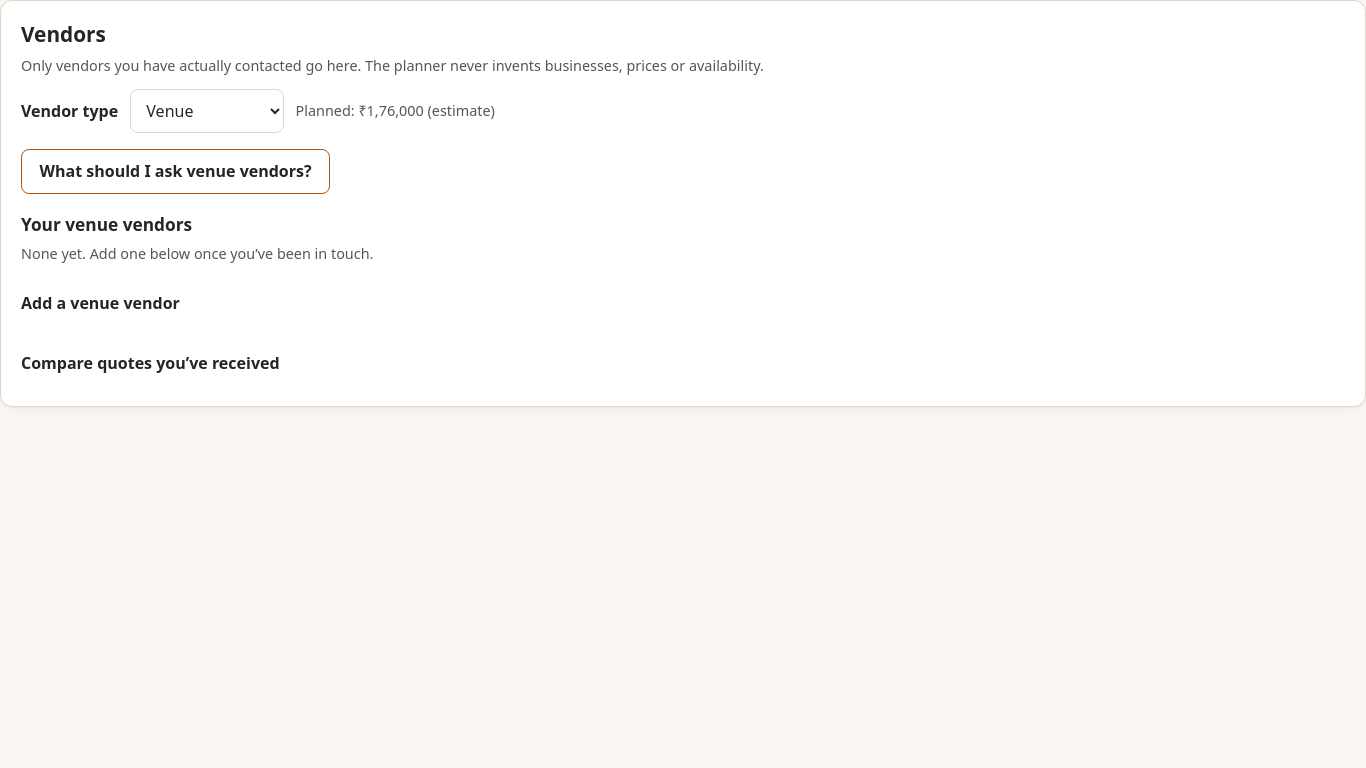
VendorPanel › comparing quotes › waits for at least one quote with enough text to read
The image size is (1366, 768).
Step 1. Select "Catering" in the dropdown labelled "Vendor type" → (207, 111), box [130,89,284,133]
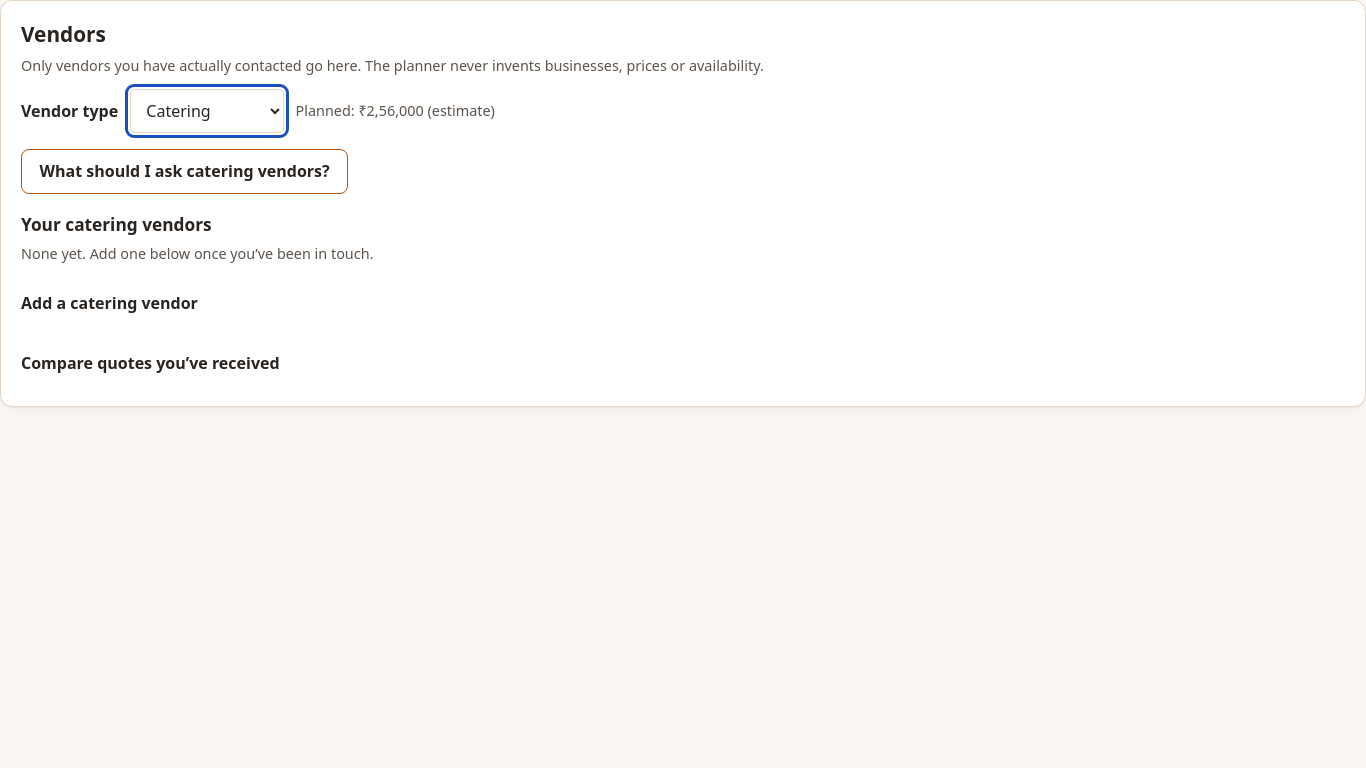
Step 2. Click the heading "Compare quotes you’ve received" → (150, 363), box [21,352,280,374]
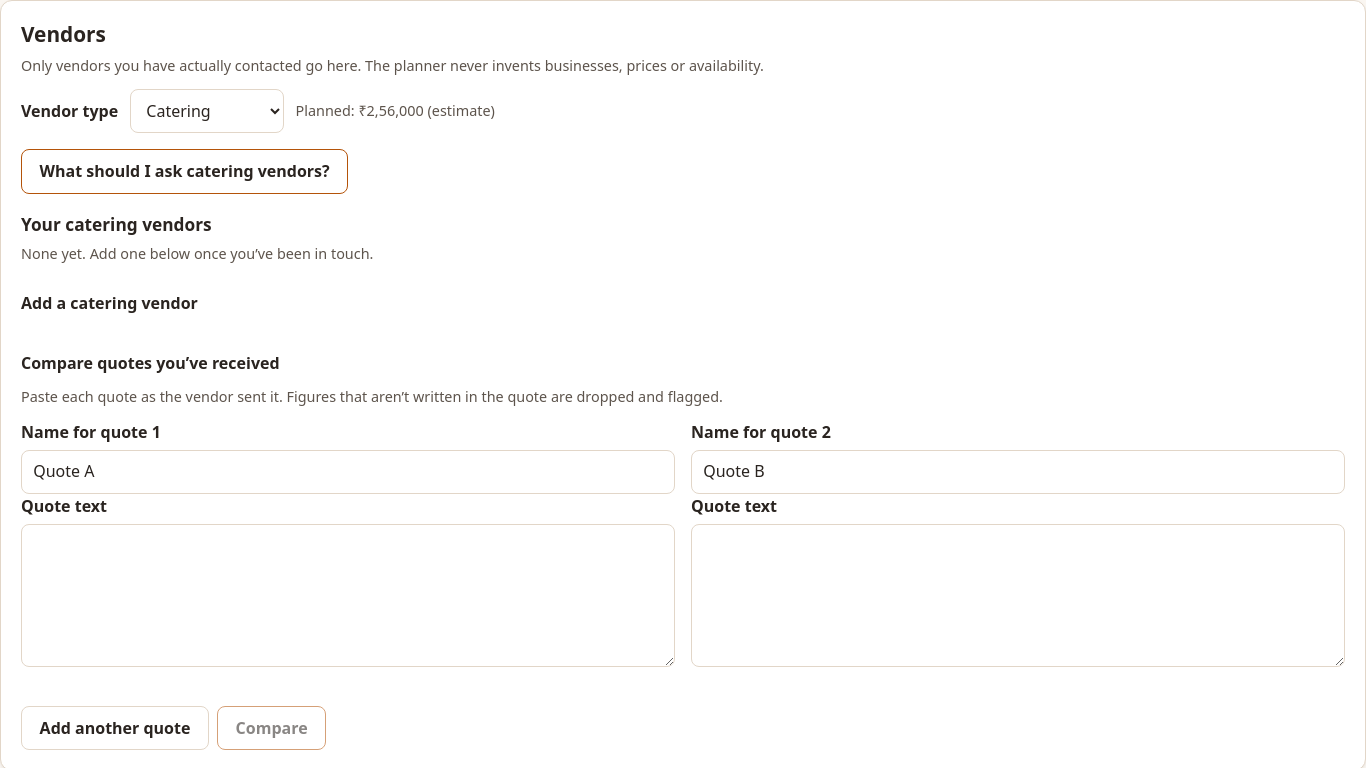
expect the button "Compare" is disabled: met, box [217,706,326,750]
Step 3. Type "too short" into the 1st text box labelled "Quote text" → (348, 595), box [21,524,675,667]
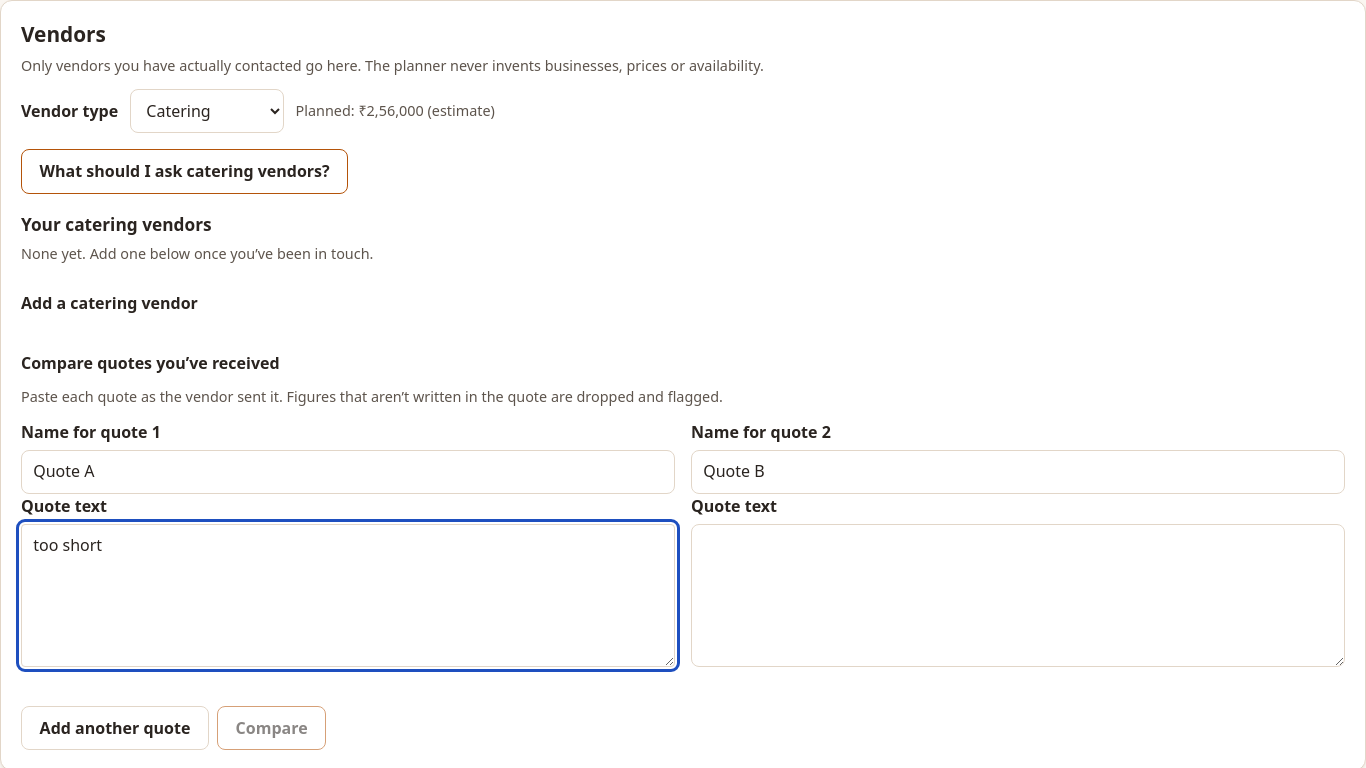
expect the button "Compare" is disabled: met, box [217,706,326,750]
Step 4. Type " but now it is long enough" into the 1st text box labelled "Quote text" → (348, 595), box [21,524,675,667]
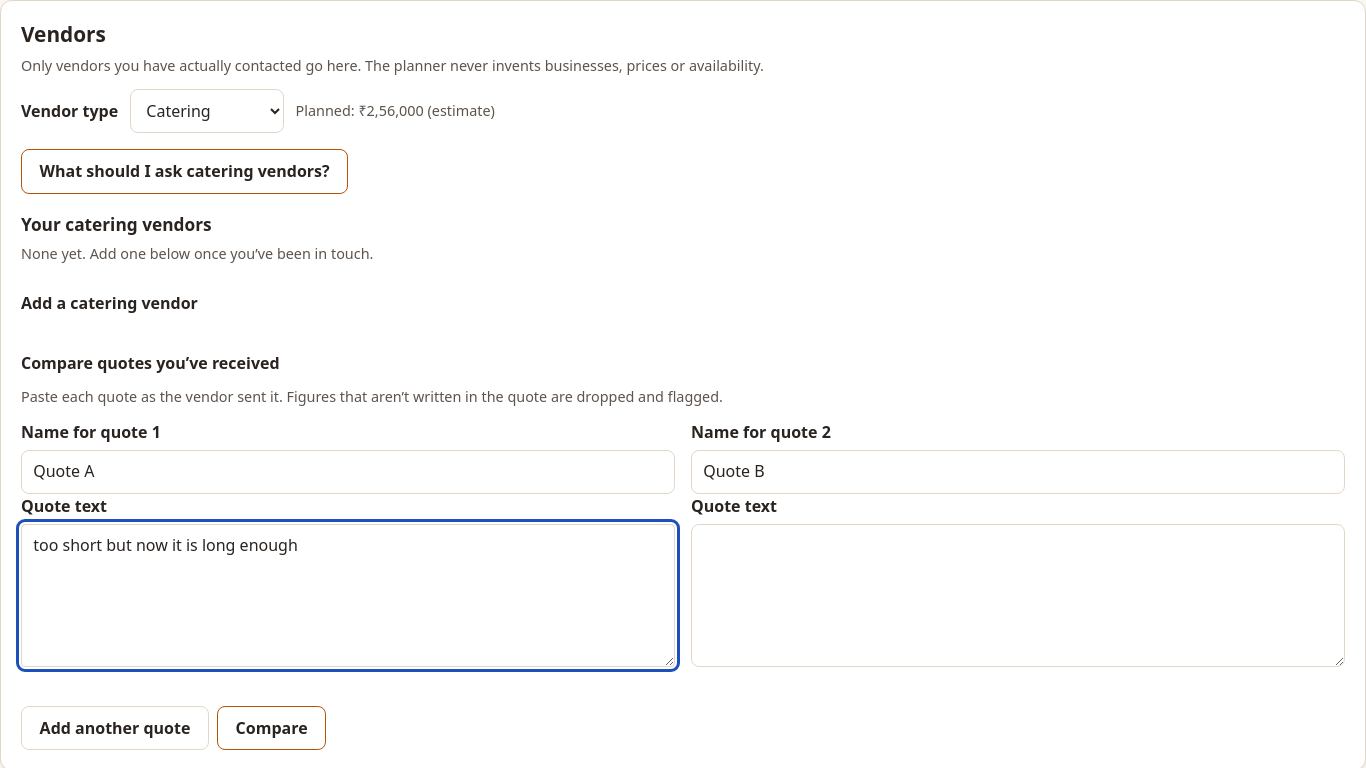
expect the button "Compare" is enabled: met, box [217,706,326,750]
